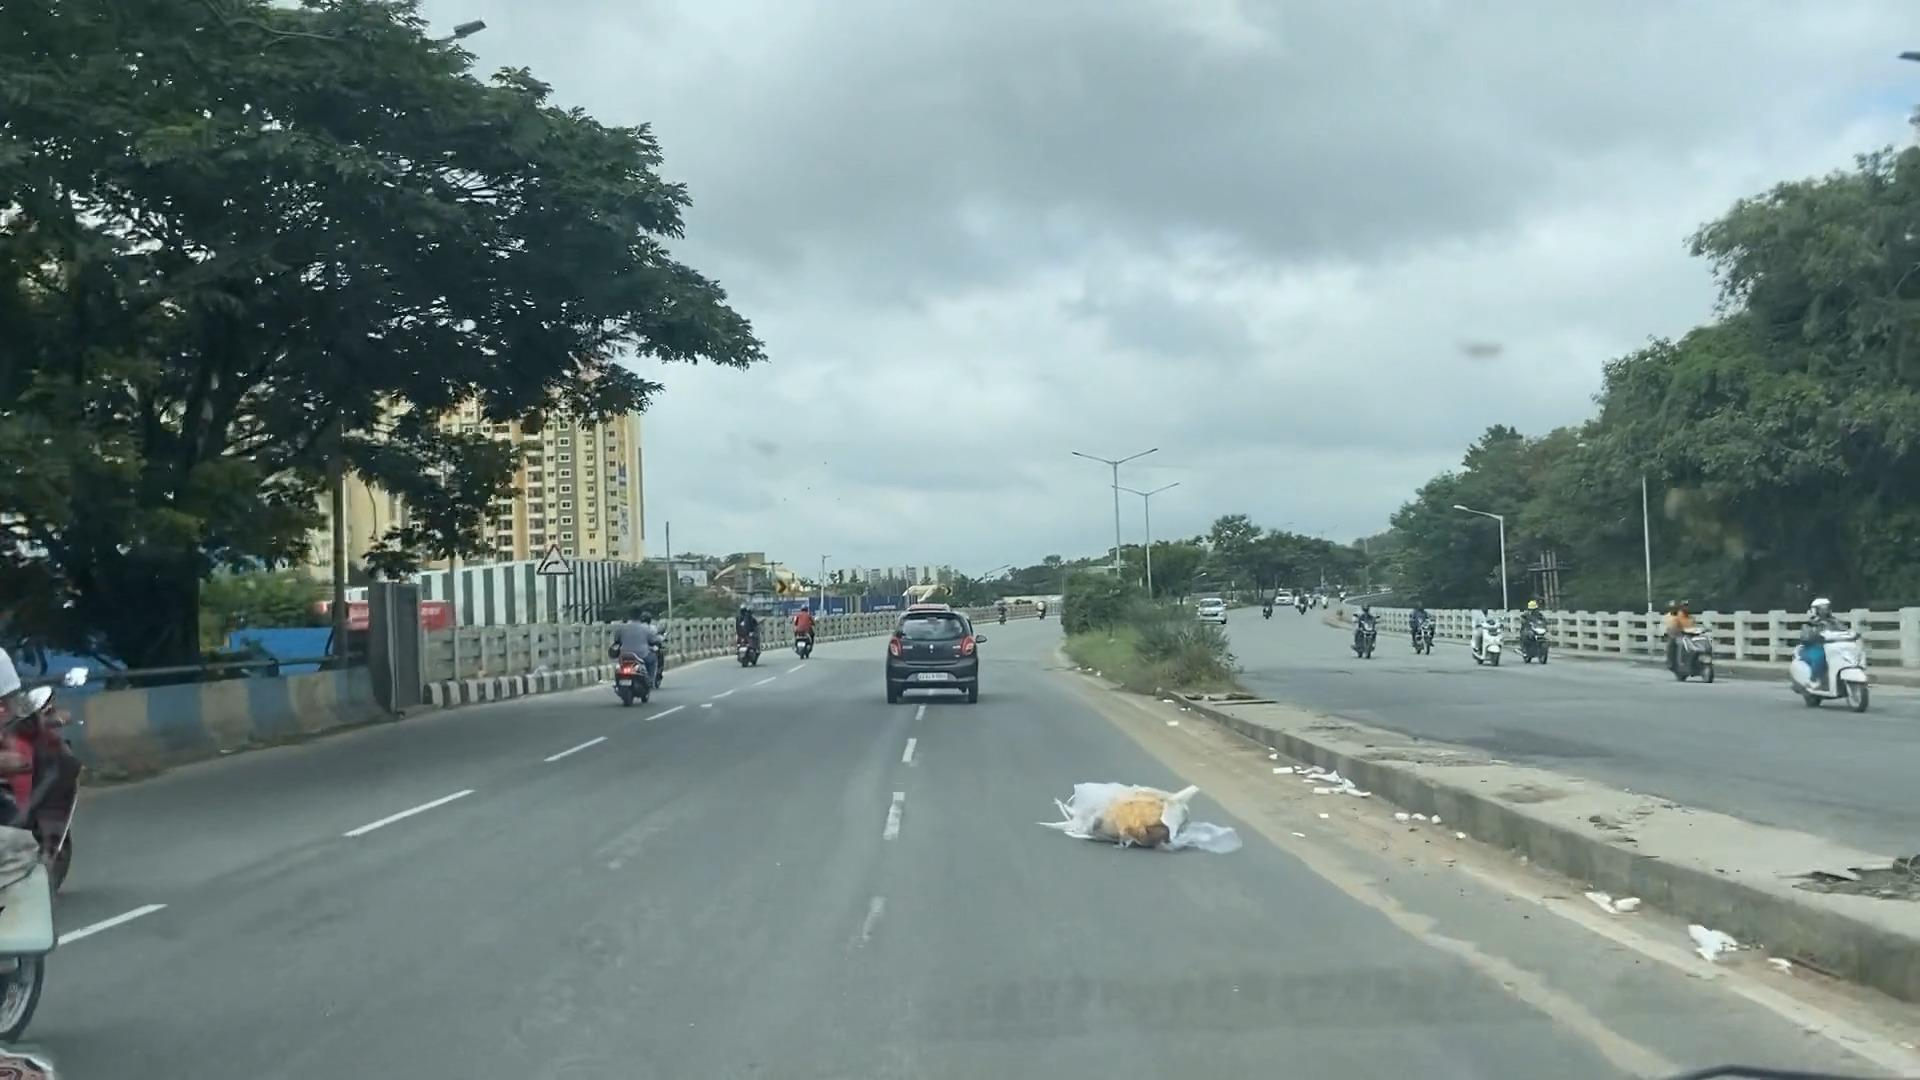LMV: (890, 608, 972, 703), (608, 611, 655, 694), (724, 603, 765, 673), (782, 600, 822, 666)
